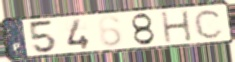4: (66, 17, 92, 51)
5: (27, 18, 59, 55)
6: (97, 15, 125, 49)
8: (130, 12, 157, 46)
C: (193, 8, 226, 41)
H: (159, 8, 194, 44)
